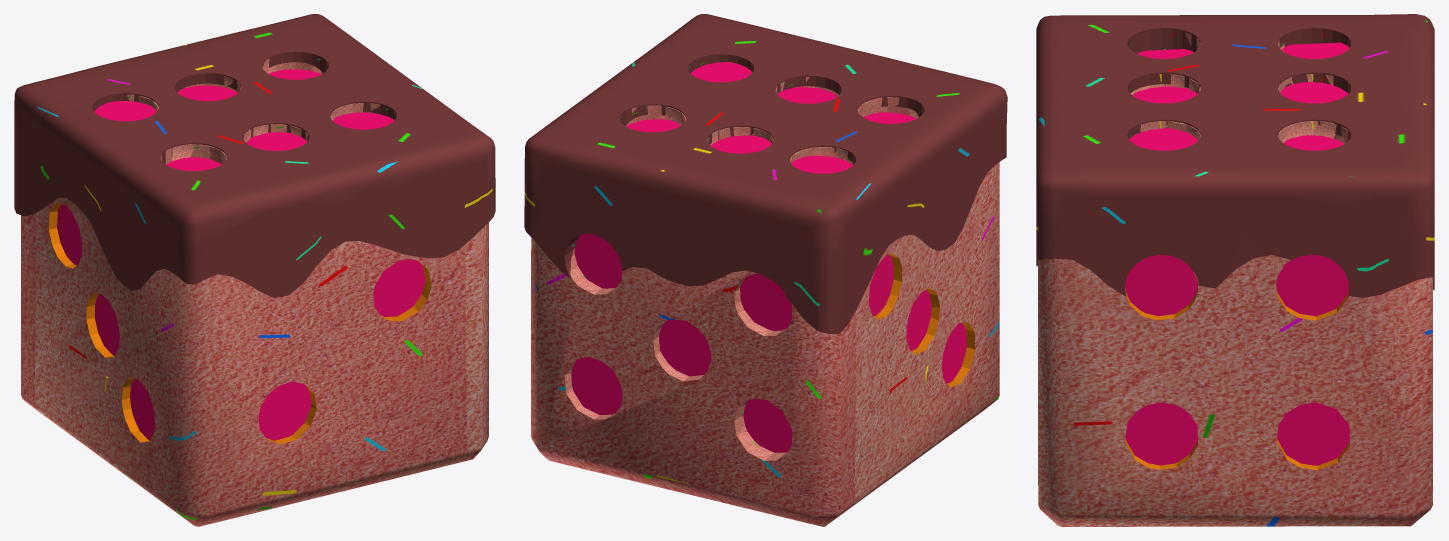
Rendered from cake.dice.fbx.
3 views of the same model, side by side, from view 1: azimuth 30°, elevation 25°; view 2: azimuth 150°, elevation 25°; view 3: azimuth 270°, elevation 25° (orthographic). The views are drawn at different scales.
Parts seen in each view (by area): view 1: Cube, Cube.001, Cube.002; view 2: Cube.001, Cube, Cube.002; view 3: Cube.001, Cube, Cube.002.
Part boxes in pixels (bbox=[...]): Cube: bbox=[21, 59, 488, 526]; Cube.001: bbox=[14, 14, 495, 297]; Cube.002: bbox=[57, 69, 425, 440]; Cube.001: bbox=[524, 14, 1007, 334]; Cube: bbox=[531, 77, 999, 526]; Cube.002: bbox=[571, 62, 966, 452]; Cube.001: bbox=[1036, 14, 1434, 297]; Cube: bbox=[1038, 32, 1432, 526]; Cube.002: bbox=[1125, 42, 1349, 465].
Bounding box in the file's own units: 203 × 214 × 202.
